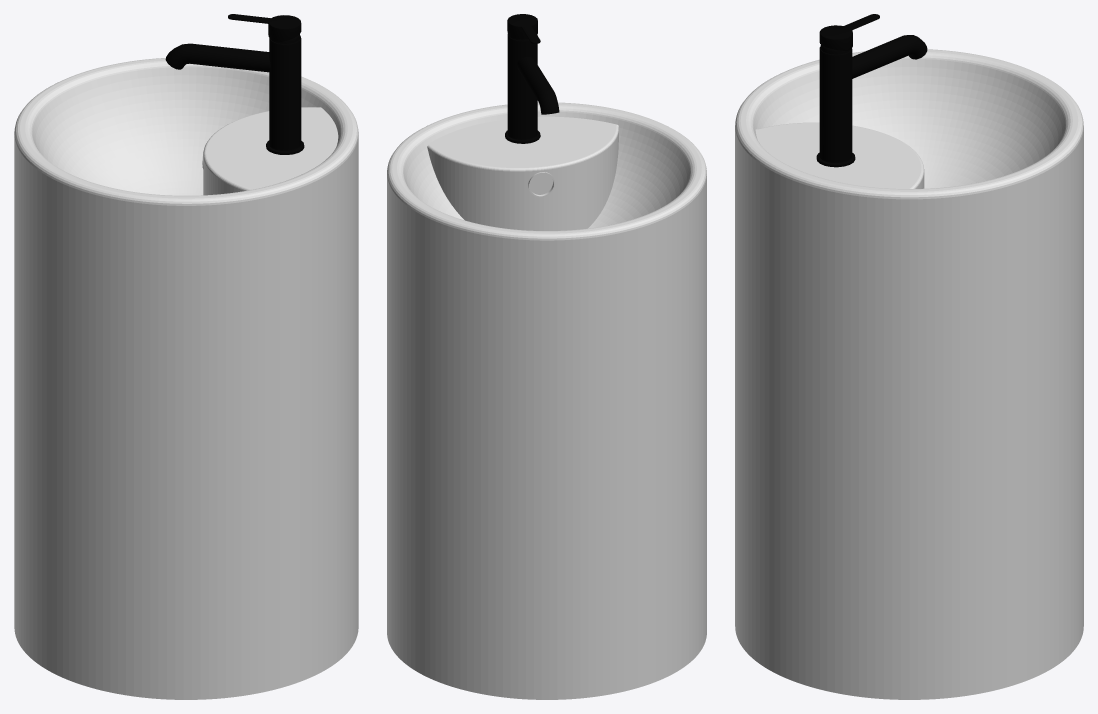
Rendered from kinkiKinki1.gltf.
The picture shows the model from 3 angles, left to right: view 1: azimuth 30°, elevation 25°; view 2: azimuth 150°, elevation 25°; view 3: azimuth 270°, elevation 25°; orthographic projection. The views are drawn at different scales.
Visible parts, largest first — view 1: kinkiSink1; view 2: kinkiSink1; view 3: kinkiSink1.
Part boxes in pixels (x1,y1,x2,y2): kinkiSink1: (14, 14, 358, 699); kinkiSink1: (387, 14, 706, 699); kinkiSink1: (735, 14, 1083, 699).
Size of the model in its own units: 2.5 by 4.94 by 2.5.
1 material, 1 textured.
